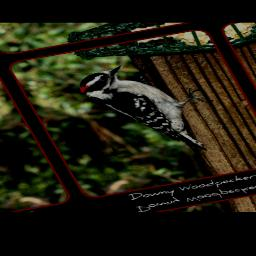Woodpecker: (70, 53, 242, 164)
